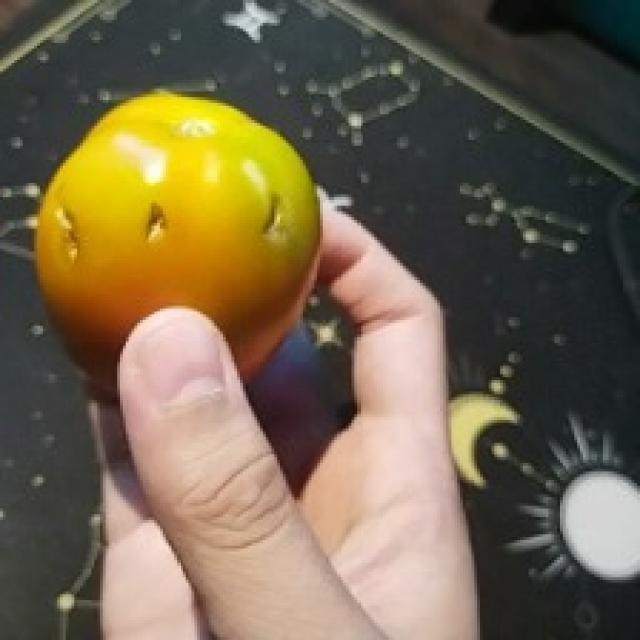tomato: (34, 91, 323, 409)
